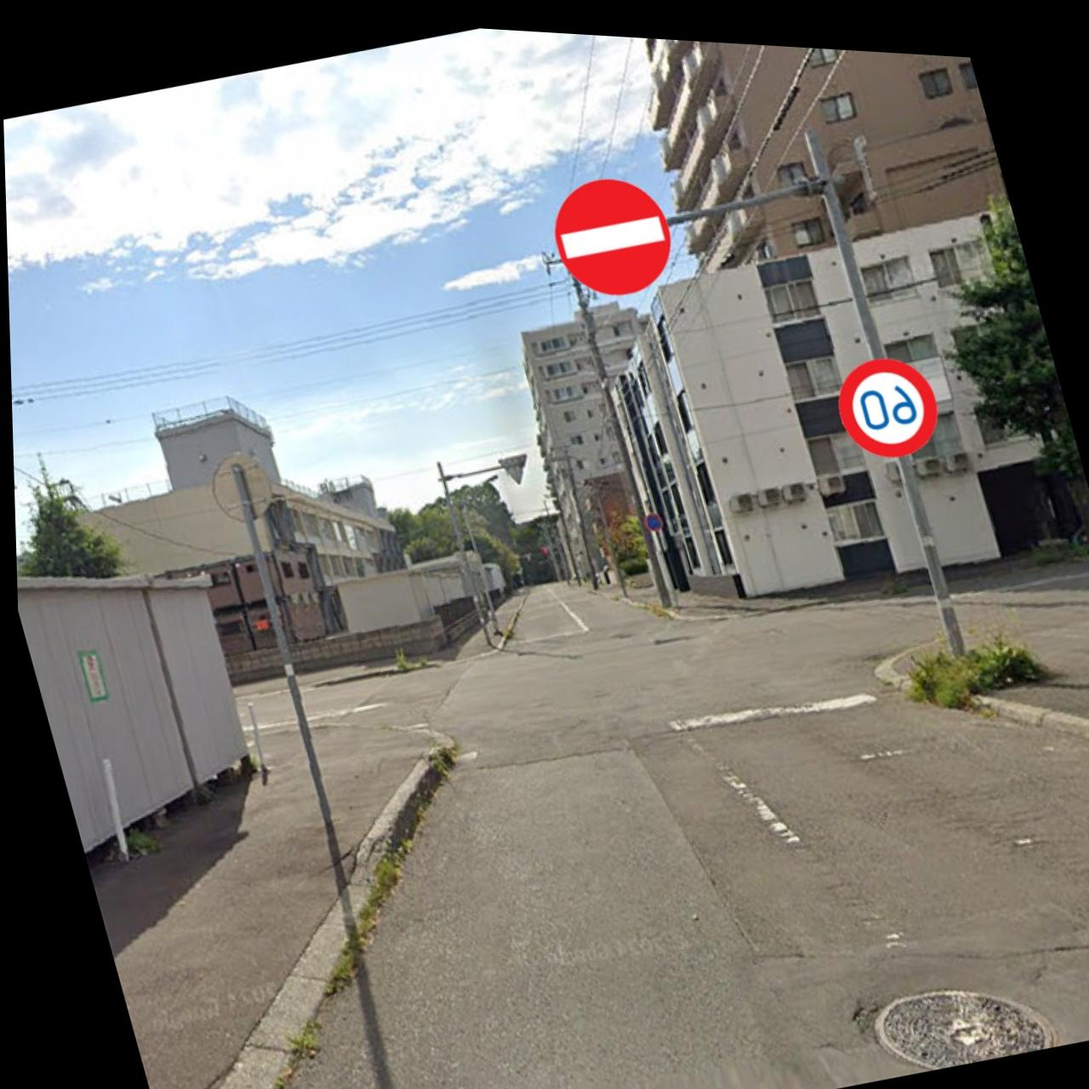barrier: (537, 157, 684, 314)
